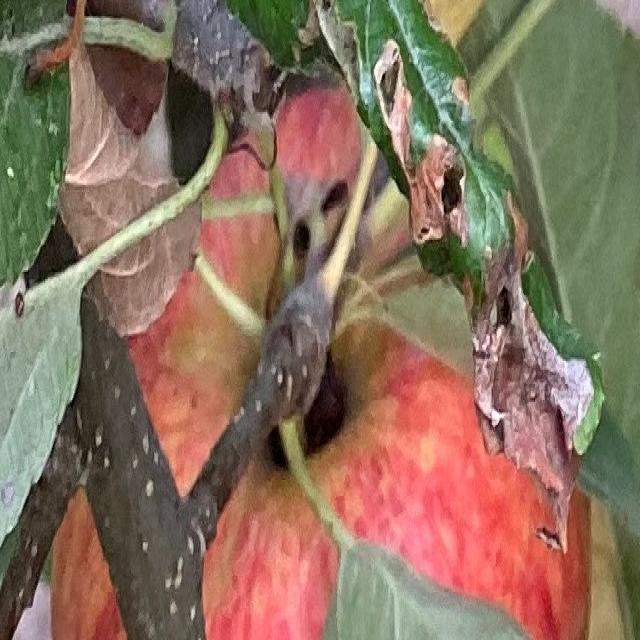100-_ripeness: (51, 90, 590, 640)
